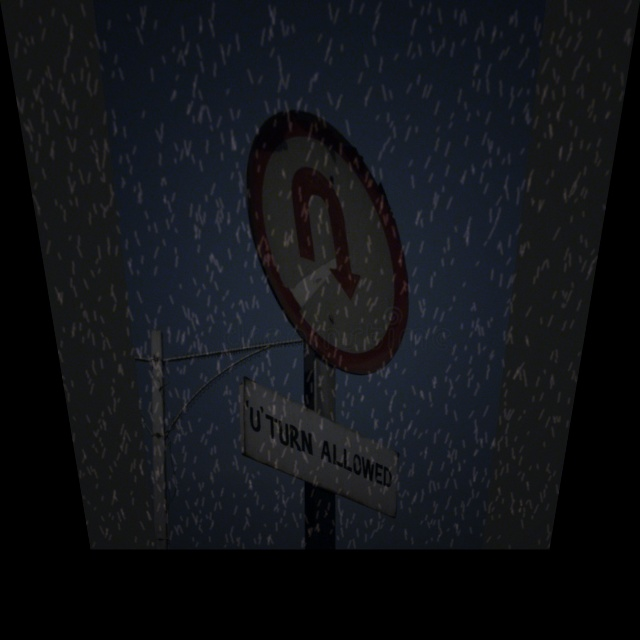U_Turn_Ahead: (245, 94, 440, 376)
